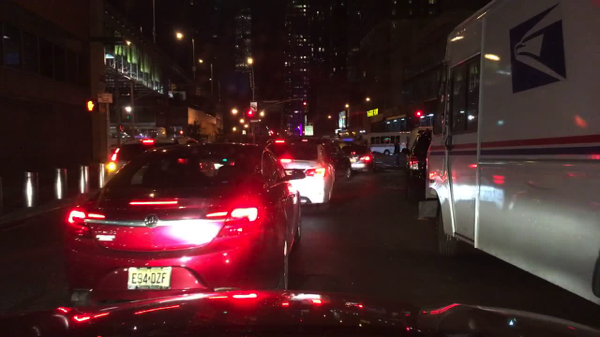bus: (420, 0, 599, 307), (108, 125, 164, 148), (359, 131, 412, 155)
car: (62, 142, 306, 308), (265, 135, 338, 214), (103, 134, 204, 183), (401, 129, 433, 205), (317, 138, 355, 179), (343, 144, 379, 176), (407, 126, 429, 149)
person: (393, 135, 403, 167)
traffic light: (86, 101, 95, 111), (415, 111, 422, 117), (247, 110, 253, 117), (303, 102, 308, 110), (124, 115, 131, 120), (118, 125, 122, 132)
traffic sign: (97, 93, 114, 103), (303, 125, 314, 136), (250, 102, 257, 112)
